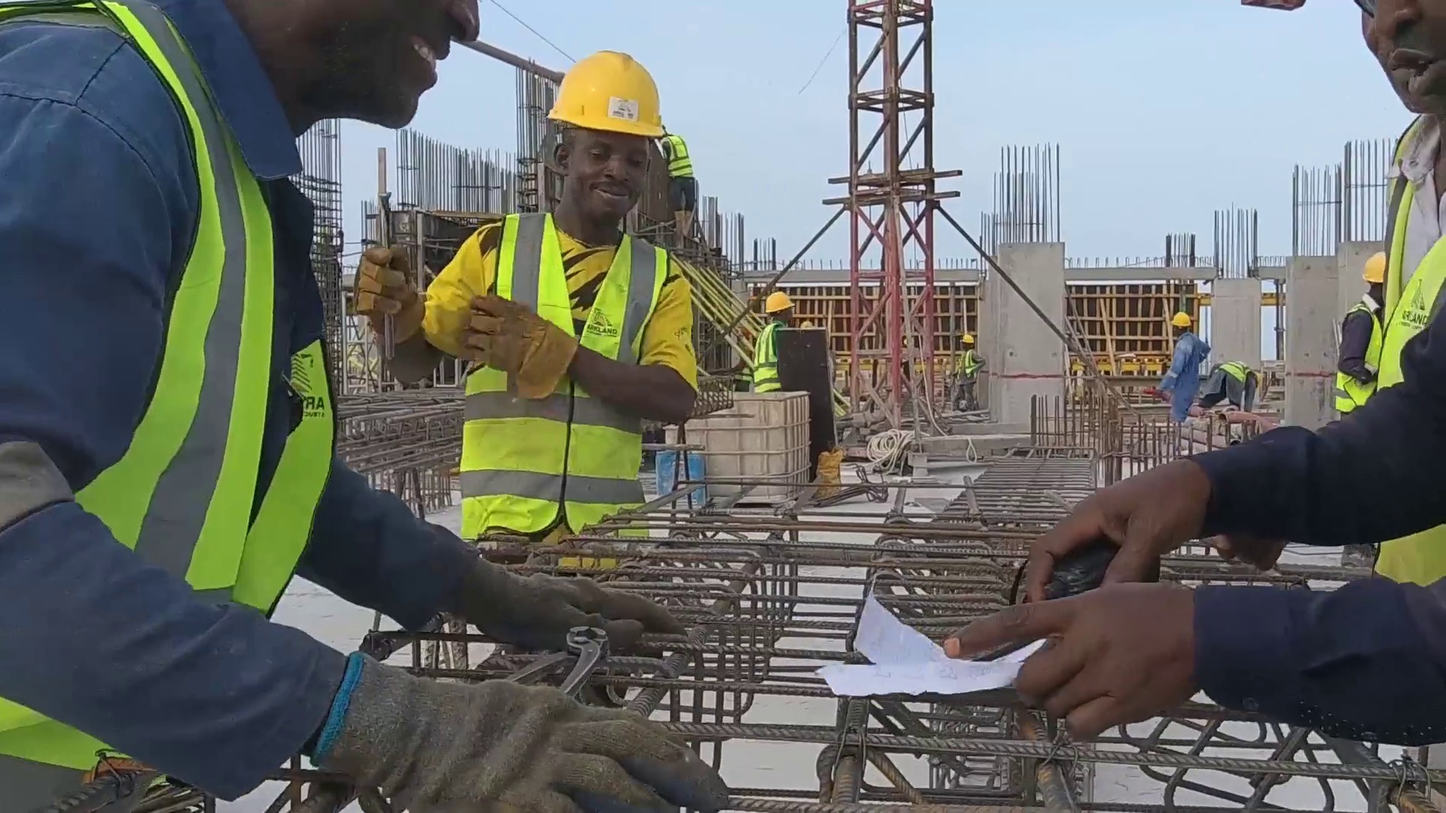helmet: (548, 50, 667, 139), (1362, 251, 1389, 283), (765, 291, 794, 314), (1171, 312, 1192, 327), (959, 333, 975, 344)
person: (1, 0, 728, 813), (945, 0, 1446, 746), (353, 50, 702, 571), (1331, 250, 1391, 422), (1157, 312, 1213, 427), (655, 126, 698, 247), (1190, 360, 1264, 419), (752, 291, 794, 394), (952, 333, 985, 413)
